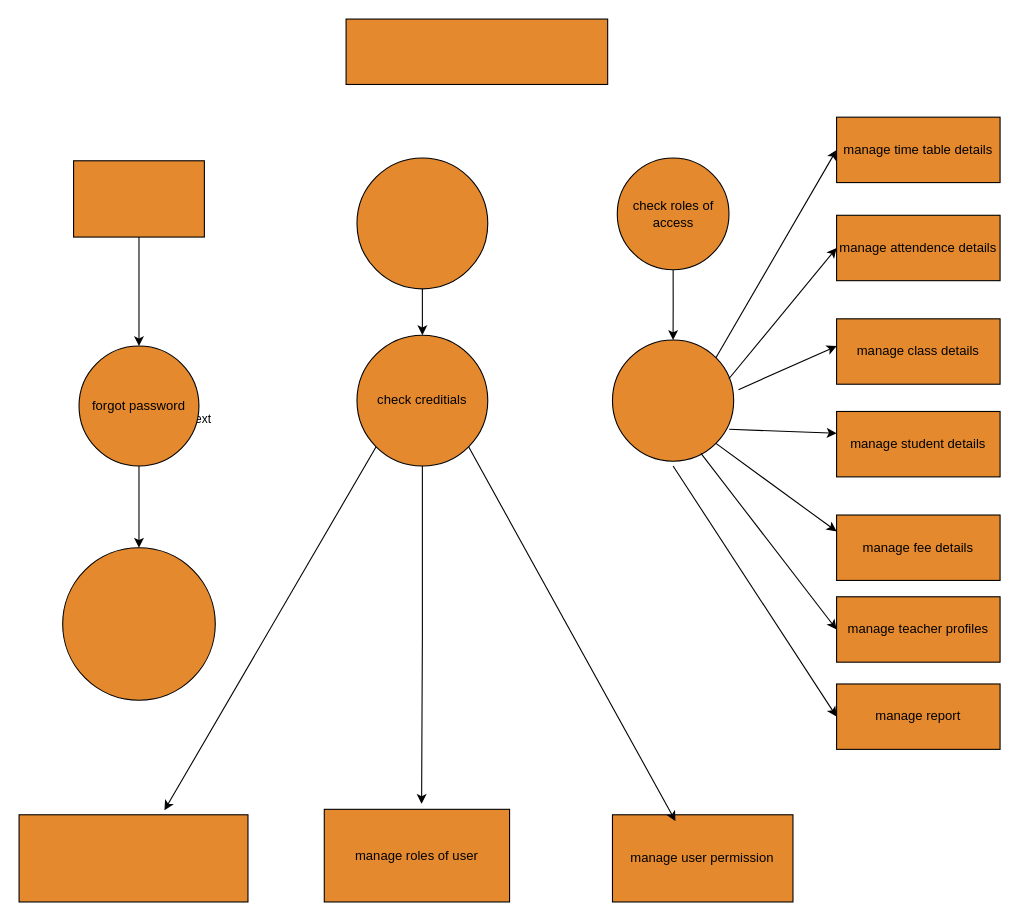
Image size: 1019x921. Some labels were removed from this diagram. The shapes that lost their labels are listed below. From the top down, each one's box as (x1, y1, x2, y2) in pixels, then its label:
(345, 18, 608, 84): student information system
(72, 160, 204, 237): admin
(356, 157, 488, 289): login to system
(611, 339, 734, 461): manage modules
(62, 547, 215, 700): send email to user
(18, 814, 248, 902): manage system admins
